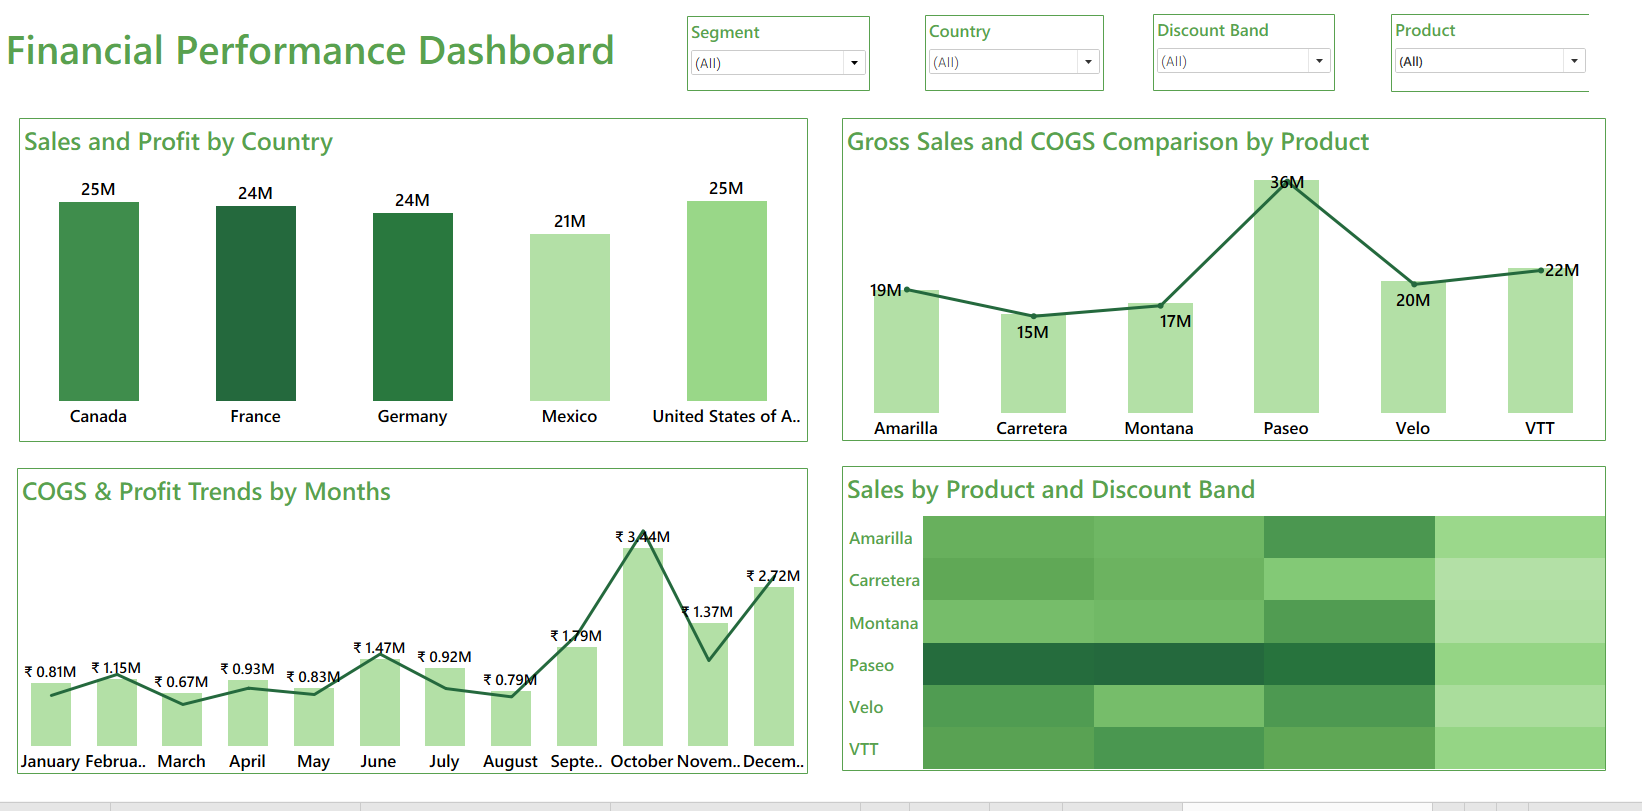

This screenshot's page, from the dashboard's own definition file:
{"tool":"tableau","page":{"name":"Financial Performance Dashboard","canvas":[1000,1000],"units":"permille","ordinal":0},"visuals":[{"type":"text","box":[3,16.2,374.1,87.4]},{"type":"filter","title":"Discount Band","param":"[federated.071vnxi190vjl01gxsp4d1enansf].[none:Discount Band :nk]","box":[697.8,17.5,109.7,96.1]},{"type":"filter","title":"Gross Sales and COGS Comparison by Product","param":"[federated.071vnxi190vjl01gxsp4d1enansf].[none:Product :nk]","box":[841.1,17.5,119.9,97.4]},{"type":"filter","title":"Country","param":"[federated.071vnxi190vjl01gxsp4d1enansf].[none:Country:nk]","box":[560,18.7,107.9,94.9]},{"type":"filter","title":"Segment","param":"[federated.071vnxi190vjl01gxsp4d1enansf].[none:Segment:nk]","box":[416.7,20,110.3,93.6]},{"type":"worksheet","title":"Country","mark":"Automatic","box":[4.8,83.7,74.9,62.4]},{"type":"worksheet","title":"Discount Band","mark":"Automatic","box":[146.3,97.4,50.4,46.2]},{"type":"worksheet","title":"Sales and Profit by Country","mark":"Bar","rows":["Sales "],"cols":["Country"],"box":[13.2,147.3,476,404.5]},{"type":"worksheet","title":"Gross Sales and COGS Comparison by Product","mark":"Bar","rows":["COGS ","Gross Sales "],"cols":["Product "],"box":[510.2,147.3,461,403.2]},{"type":"worksheet","title":"Segment","mark":"Automatic","box":[247,565.5,82.1,86.1]},{"type":"worksheet","title":"Sales by Product and Discount Band","mark":"Automatic","rows":["Product "],"cols":["Discount Band "],"box":[510.2,581.8,461,380.8]},{"type":"worksheet","title":"COGS & Profit Trends by Months","mark":"Line","rows":["COGS ","Profit "],"cols":["Month Name "],"box":[12,584.3,477.2,382]}]}

Visuals, with their boxes on the dashboard's canvas, which has no fixed pixel size, in thousandths of its width and height (x1, y1, x2, y2). These are canvas units, not pixel positions in the 1642x811 screenshot, which may show the page scaled, cropped or inside an application window:
text: (x1=3, y1=16, x2=377, y2=104)
"Discount Band" filter: (x1=698, y1=18, x2=808, y2=114)
"Gross Sales and COGS Comparison by Product" filter: (x1=841, y1=18, x2=961, y2=115)
"Country" filter: (x1=560, y1=19, x2=668, y2=114)
"Segment" filter: (x1=417, y1=20, x2=527, y2=114)
"Country" worksheet: (x1=5, y1=84, x2=80, y2=146)
"Discount Band" worksheet: (x1=146, y1=97, x2=197, y2=144)
"Sales and Profit by Country" worksheet (Bar marks): (x1=13, y1=147, x2=489, y2=552)
"Gross Sales and COGS Comparison by Product" worksheet (Bar marks): (x1=510, y1=147, x2=971, y2=550)
"Segment" worksheet: (x1=247, y1=566, x2=329, y2=652)
"Sales by Product and Discount Band" worksheet: (x1=510, y1=582, x2=971, y2=963)
"COGS & Profit Trends by Months" worksheet (Line marks): (x1=12, y1=584, x2=489, y2=966)
